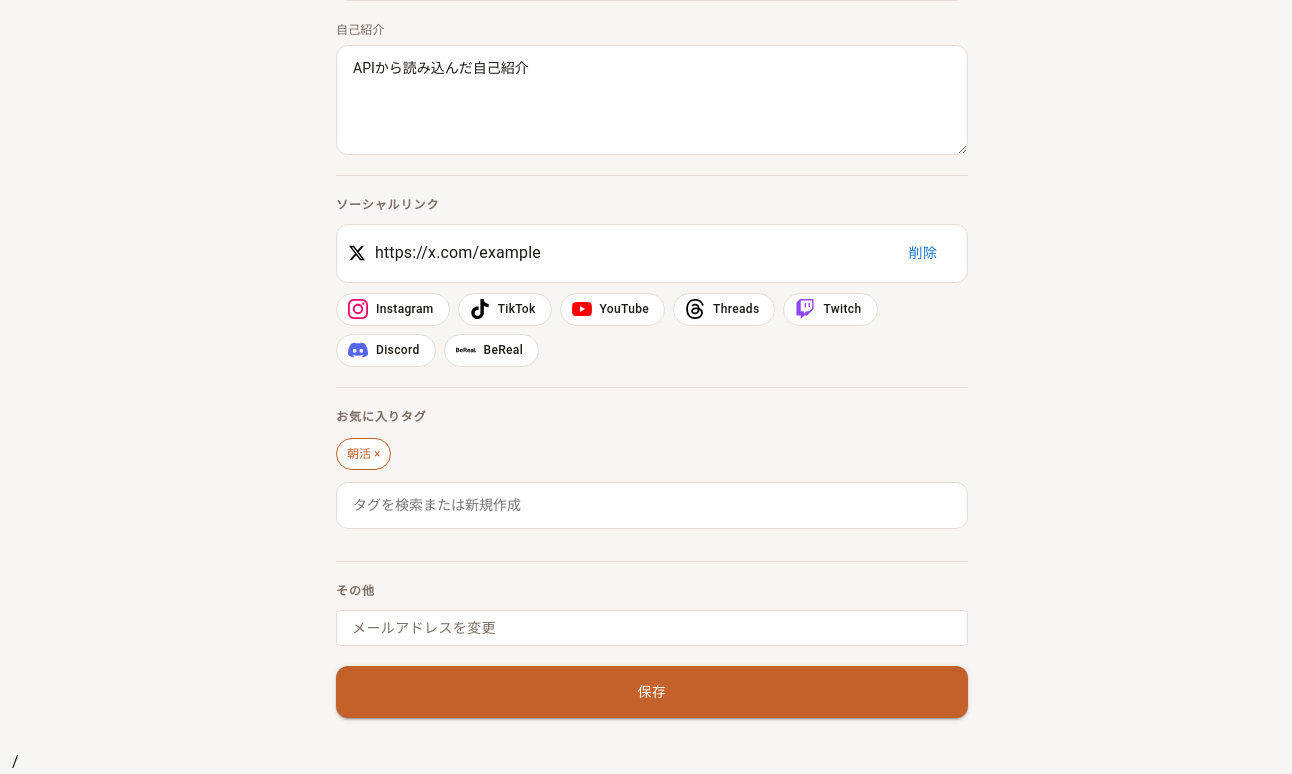
Scenario: ProfileEditPage › 保存すると編集済みプロフィールをサービスへ渡してアカウント画面へ遷移する
(page scrolled)
Step 1. Click the button "保存" → (652, 692), box [336,666,968,718]
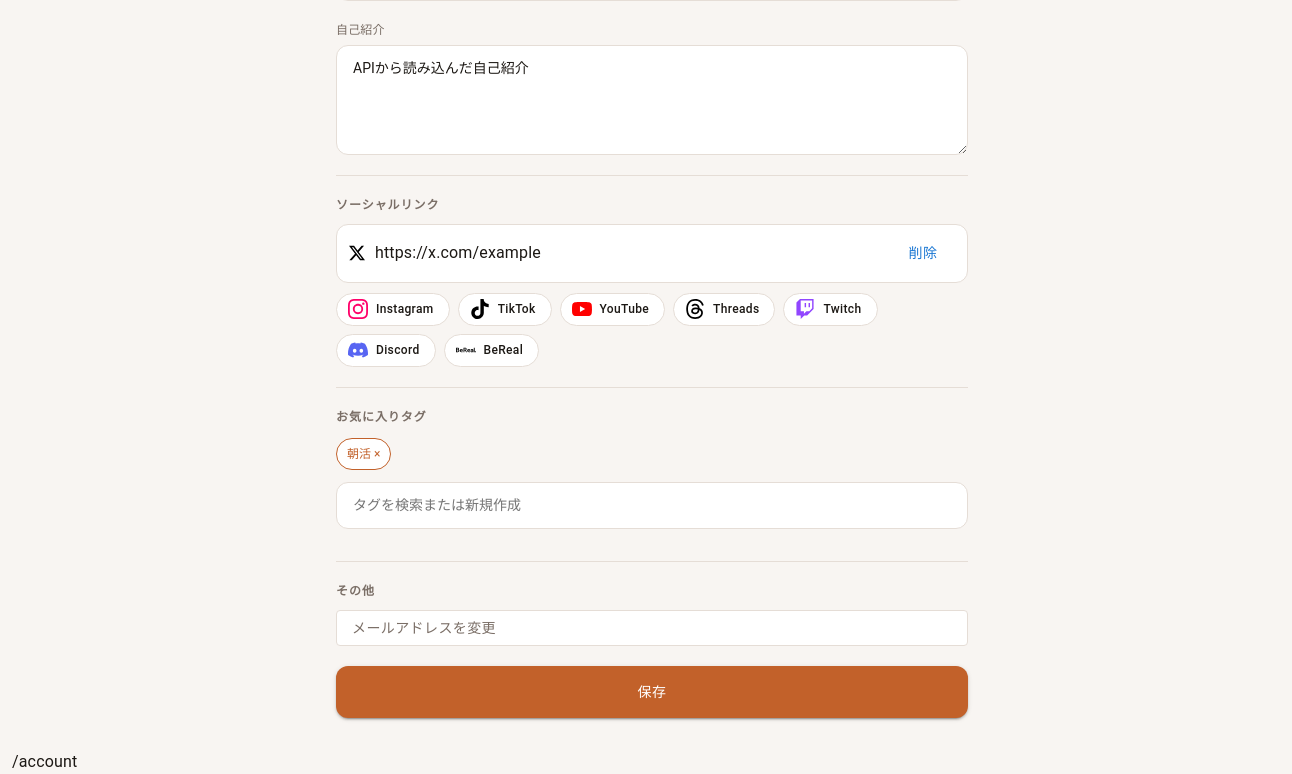
Expected: the text "/account" is shown, [12,752,77,771]
